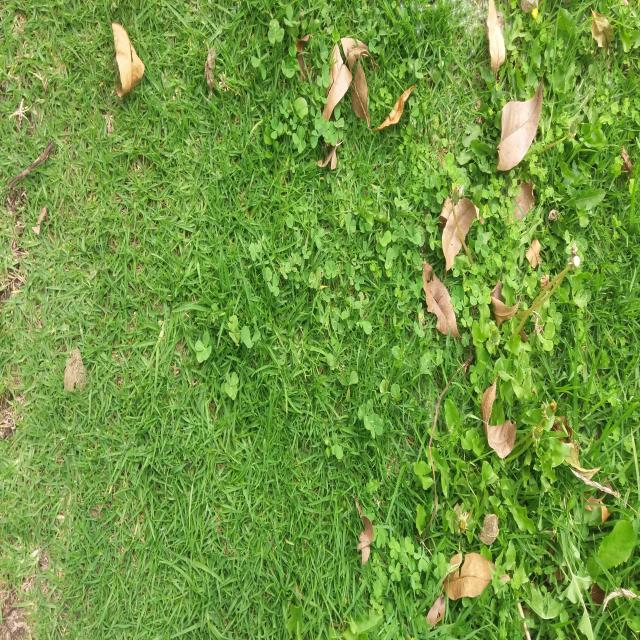Four Leaf Clover: (251, 44, 269, 80), (195, 332, 211, 363), (224, 371, 238, 400)
